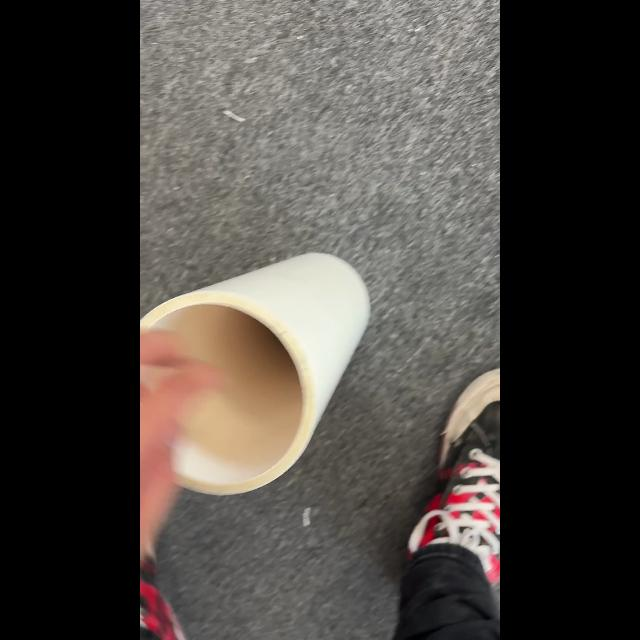CORAL: (141, 250, 371, 496)
